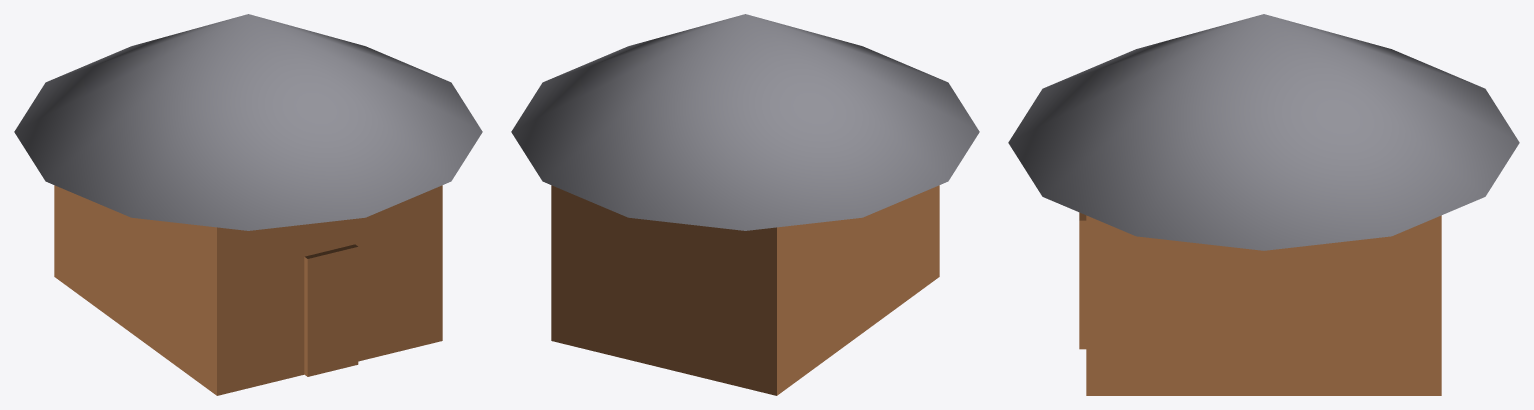
Rendered from casa.obj.
The picture shows the model from 3 angles, left to right: view 1: azimuth 30°, elevation 25°; view 2: azimuth 150°, elevation 25°; view 3: azimuth 270°, elevation 25°; orthographic projection. The views are drawn at different scales.
Visible parts, largest first — view 1: telhado, paredes, porta; view 2: telhado, paredes; view 3: telhado, paredes, porta.
Part boxes in pixels (bbox=[...]): telhado: bbox=[14, 14, 482, 230]; paredes: bbox=[54, 185, 442, 395]; porta: bbox=[304, 244, 358, 376]; telhado: bbox=[511, 14, 979, 230]; paredes: bbox=[551, 185, 939, 395]; telhado: bbox=[1008, 14, 1519, 250]; paredes: bbox=[1086, 215, 1441, 395]; porta: bbox=[1079, 212, 1086, 349].
Size of the model in its own units: 7.2 by 5 by 7.2.
